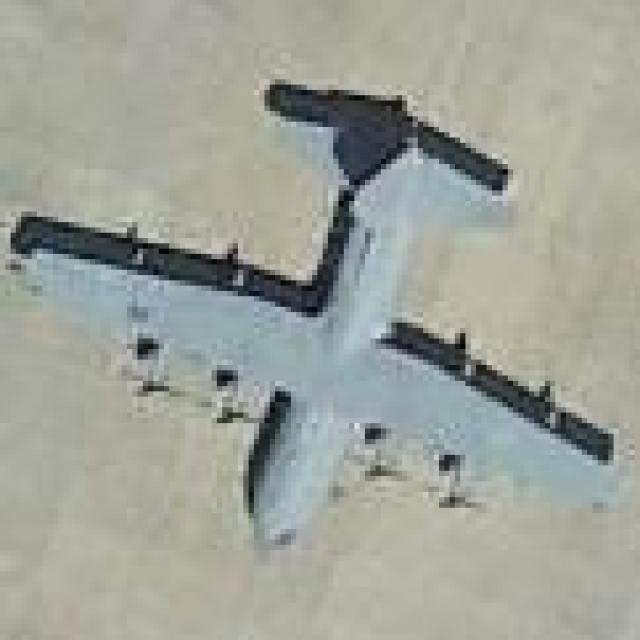C-130_TopDown: (9, 70, 618, 556)
